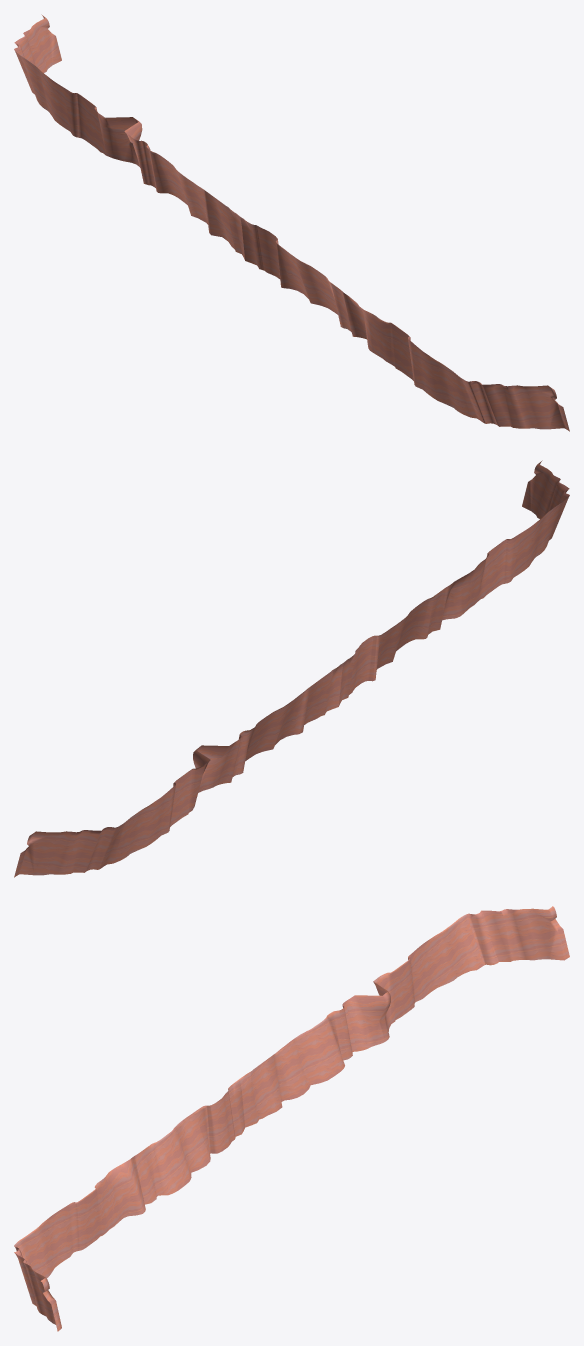
The model's file is Mesh_Adventure_Canyon_Variant_Terrain_01.fbx.
3 renders of one model, top to bottom at view 1: azimuth 30°, elevation 25°; view 2: azimuth 150°, elevation 25°; view 3: azimuth 330°, elevation 25°, orthographic.
Visible parts, largest first — view 1: Mesh_Adventure_Canyon_Variant_Terrain_01; view 2: Mesh_Adventure_Canyon_Variant_Terrain_01; view 3: Mesh_Adventure_Canyon_Variant_Terrain_01.
Boxes of the visible parts, x1,y1,x2,y2 form: Mesh_Adventure_Canyon_Variant_Terrain_01: (14, 14, 569, 431); Mesh_Adventure_Canyon_Variant_Terrain_01: (14, 460, 569, 877); Mesh_Adventure_Canyon_Variant_Terrain_01: (14, 906, 569, 1331).
Size of the model in its own units: 611 by 352 by 7000.
